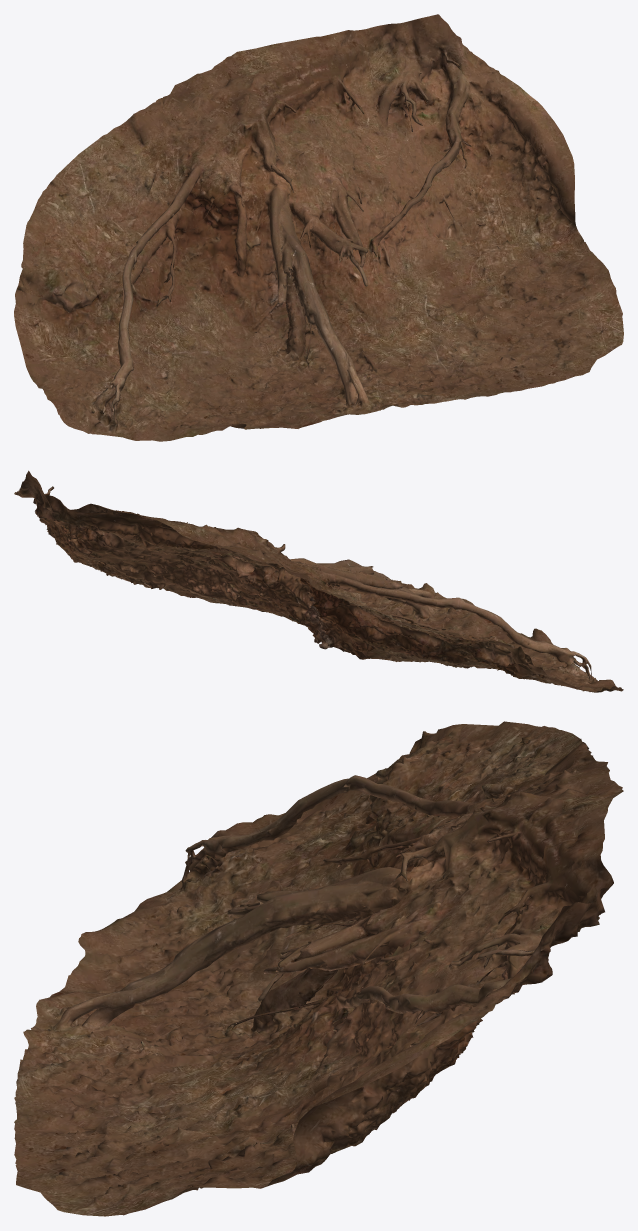
The model's file is root-cluster-01.glb.
3 renders of one model, top to bottom at view 1: azimuth 30°, elevation 25°; view 2: azimuth 150°, elevation 25°; view 3: azimuth 270°, elevation 25°, orthographic. The views are drawn at different scales.
Parts seen in each view (by area): view 1: root_cluster_01; view 2: root_cluster_01; view 3: root_cluster_01.
Part boxes in pixels (x1,y1,x2,y2): root_cluster_01: [14, 14, 623, 441]; root_cluster_01: [14, 470, 623, 692]; root_cluster_01: [14, 721, 623, 1216].
Size of the model in its own units: 4.12 by 1.51 by 2.68.
Materials: 1 (1 with a texture image).
